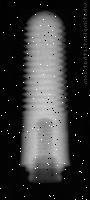Implant Direct: (15, 8, 72, 183)
